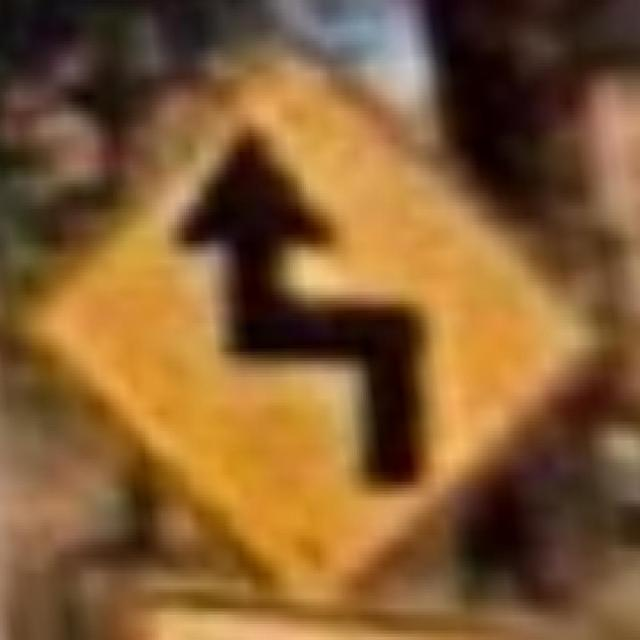Tikungan Ganda Pertama Ke Kiri: (28, 38, 587, 605)
